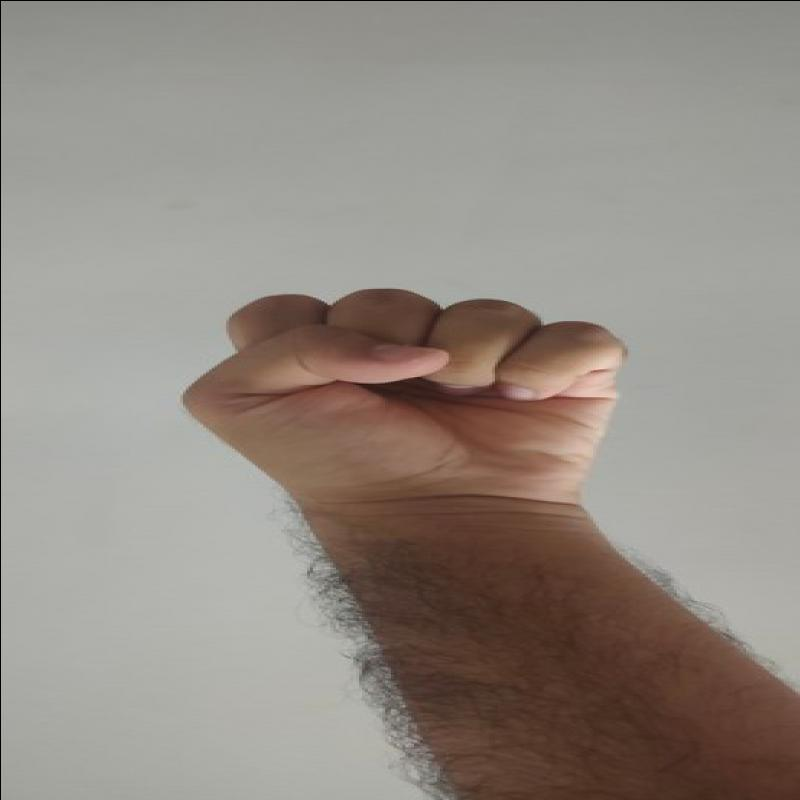Mushti: (157, 267, 645, 521)
